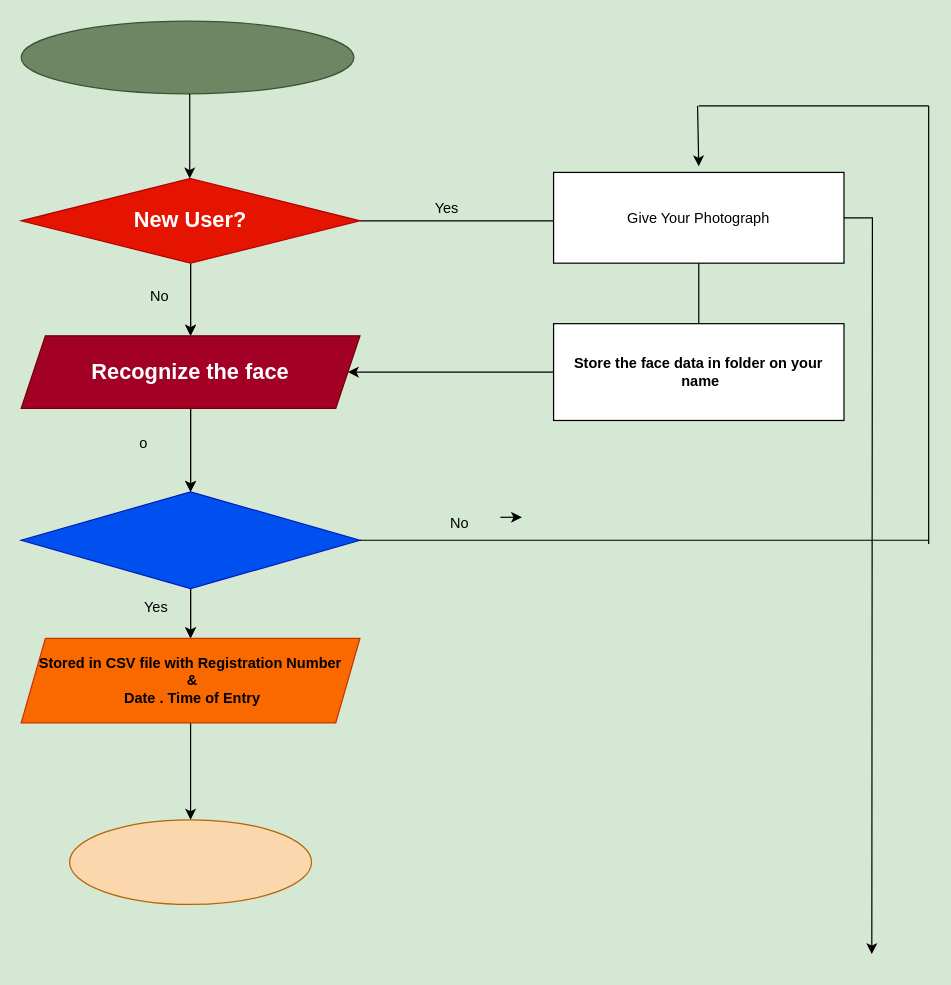
This 951x985 diagram has some shape labels left out. Each missing label, with the centre of its shape:
End: pixel 190 861
Face Recognized: pixel 190 540
Start: pixel 187 57
